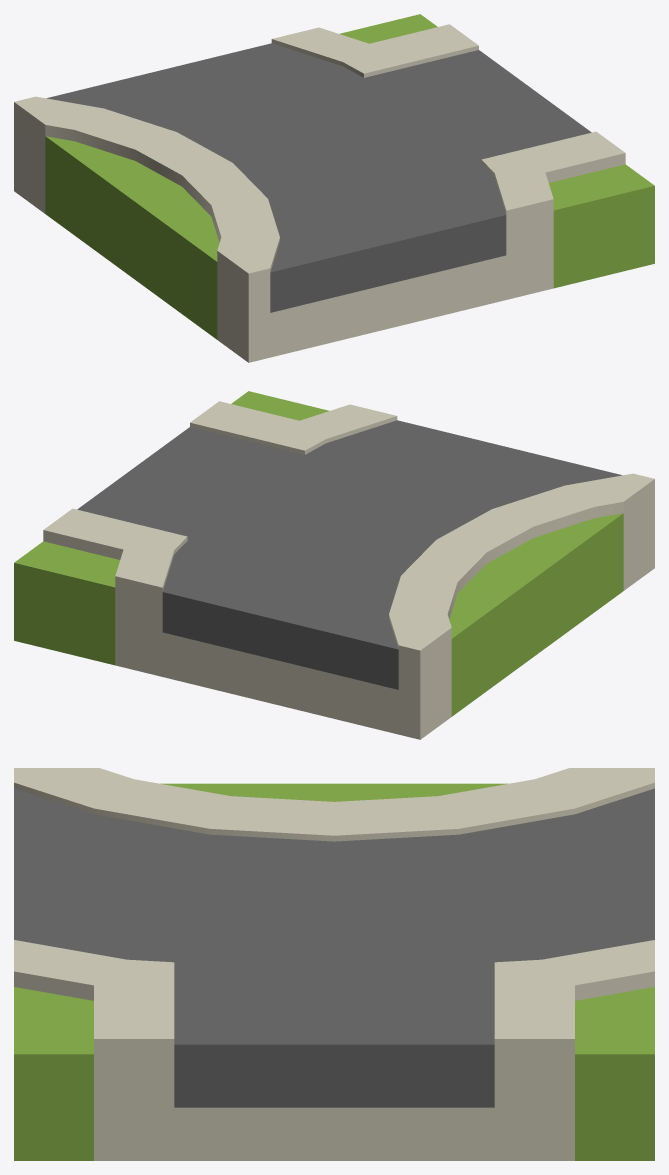
The model's file is tile100.fbx.
3 renders of one model, top to bottom at view 1: azimuth 30°, elevation 25°; view 2: azimuth 150°, elevation 25°; view 3: azimuth 270°, elevation 25°, orthographic. The views are drawn at different scales.
Visible parts, largest first — view 1: tile100; view 2: tile100; view 3: tile100.
Part boxes in pixels (x1=…): tile100: x1=14, y1=14, x2=654, y2=362; tile100: x1=14, y1=391, x2=654, y2=739; tile100: x1=14, y1=768, x2=654, y2=1160.
Bounding box in the file's own units: 10 × 2.1 × 10.
